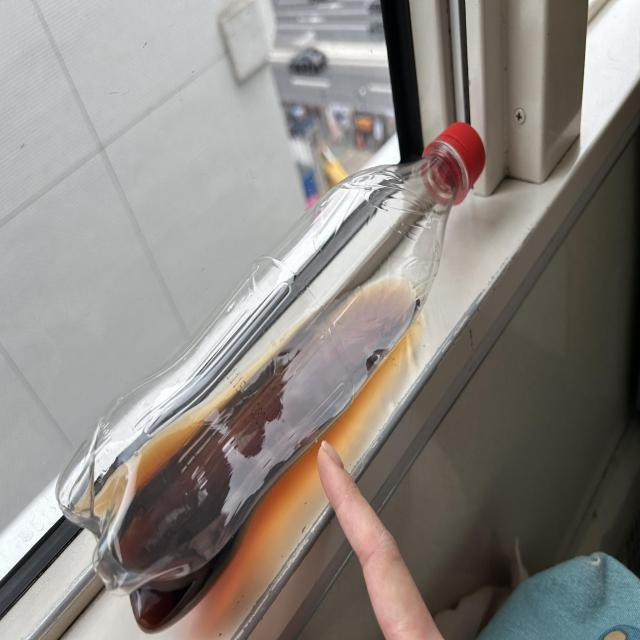low: (56, 125, 483, 630)
